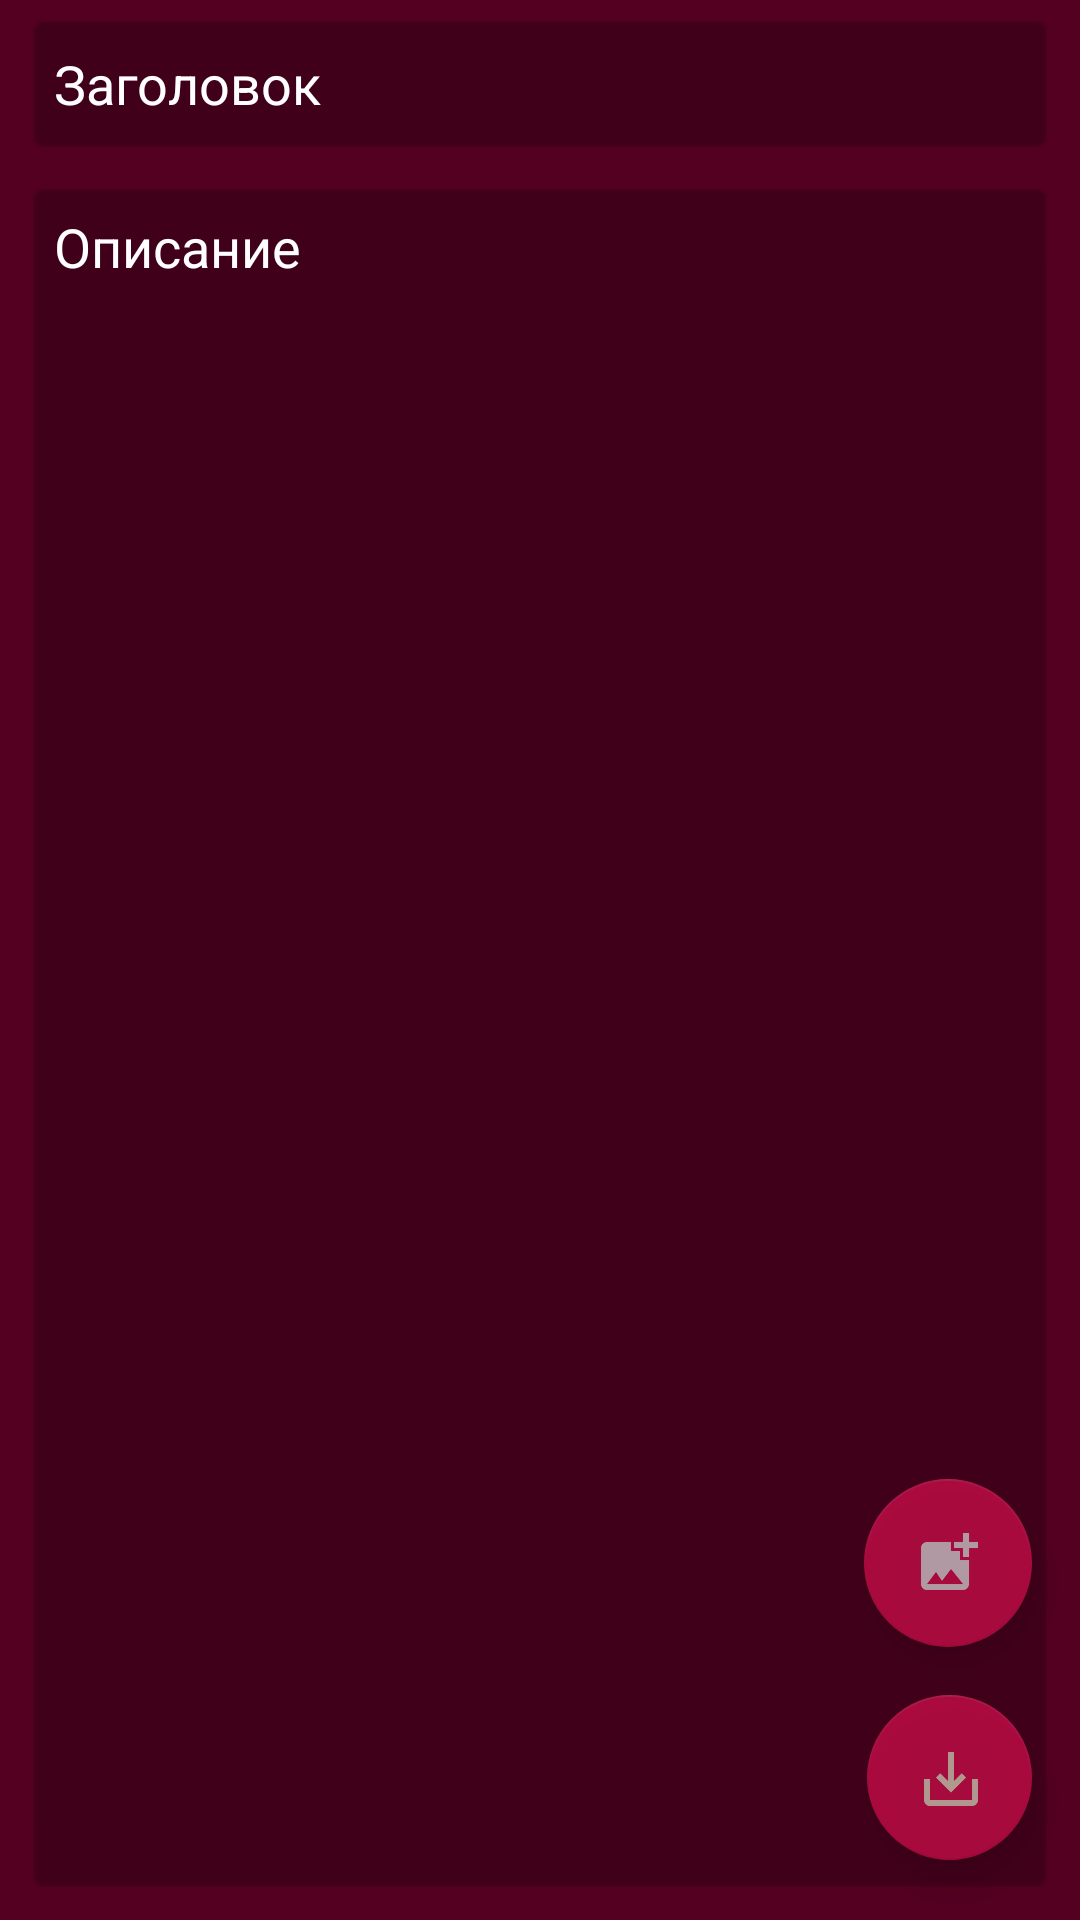

Named icons in this screenshot (1080w x 1920h) and their centers, (x=x, y=y):
photo: (x=948, y=1563)
save: (x=949, y=1777)
